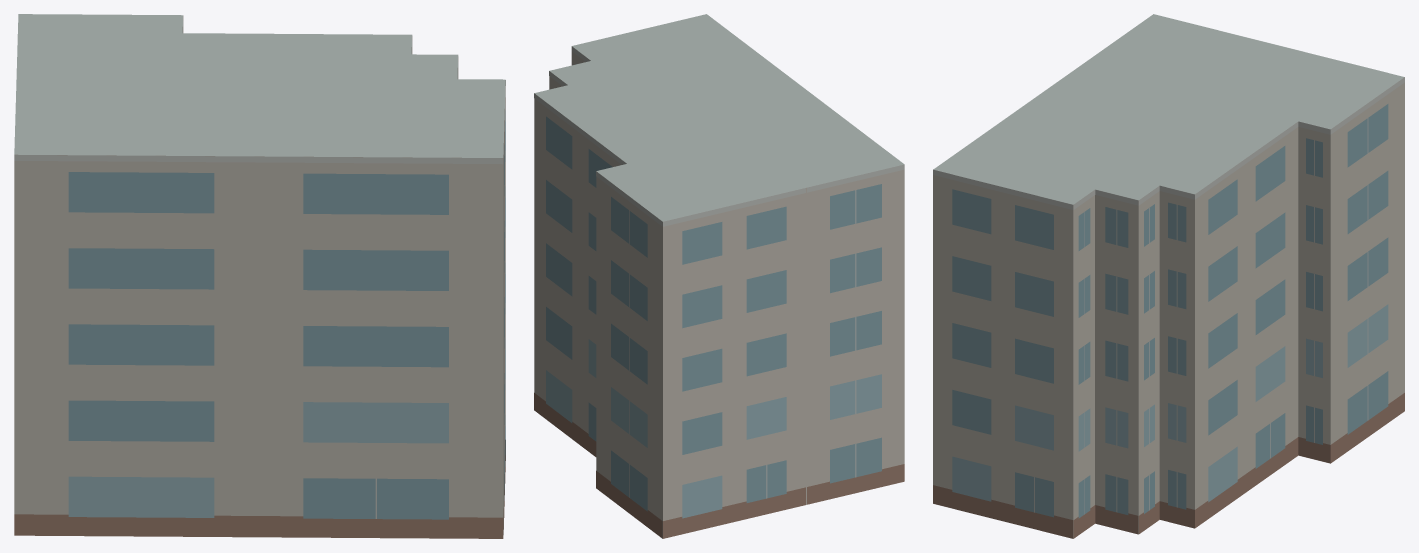
The model's file is survey-upis-32630299.glb.
The picture shows the model from 3 angles, left to right: view 1: azimuth 30°, elevation 25°; view 2: azimuth 150°, elevation 25°; view 3: azimuth 270°, elevation 25°; orthographic projection. The views are drawn at different scales.
Parts seen in each view (by area): view 1: survey-upis-32630299.tmp; view 2: survey-upis-32630299.tmp; view 3: survey-upis-32630299.tmp.
Boxes of the visible parts, box(x1,y1,x2,y2) form: survey-upis-32630299.tmp: box(14, 14, 505, 538); survey-upis-32630299.tmp: box(534, 14, 904, 538); survey-upis-32630299.tmp: box(933, 14, 1404, 538).
Size of the model in its own units: 18.69 by 15.25 by 19.52.
